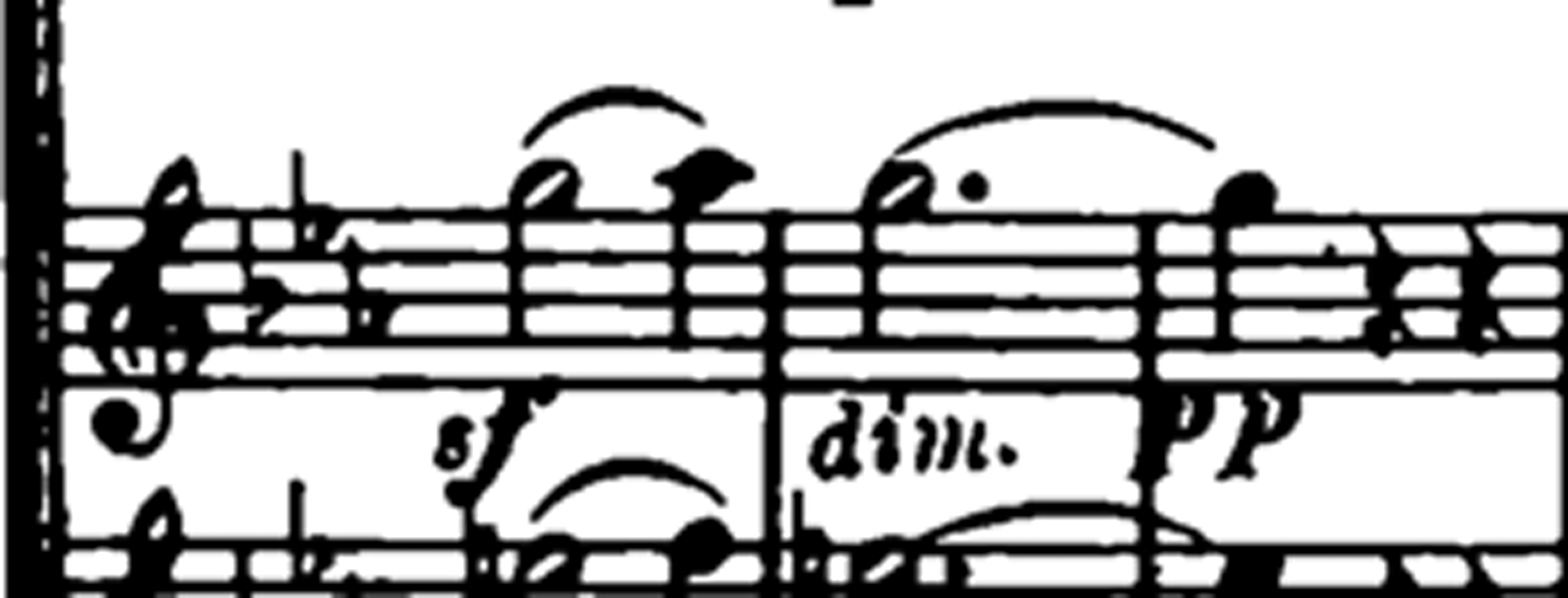beam: (529, 455, 725, 521), (519, 82, 704, 149)
clefG: (72, 131, 226, 476)
noteheadBlackInSpace: (1213, 172, 1274, 214), (1239, 545, 1283, 588), (6, 0, 37, 28)
noteheadBlackOnLine: (1234, 568, 1279, 595)
restHBar: (20, 264, 1195, 371), (4, 168, 1134, 256), (177, 349, 1352, 425), (1, 351, 1156, 422), (0, 552, 1156, 598)
staff: (137, 166, 1313, 375)
